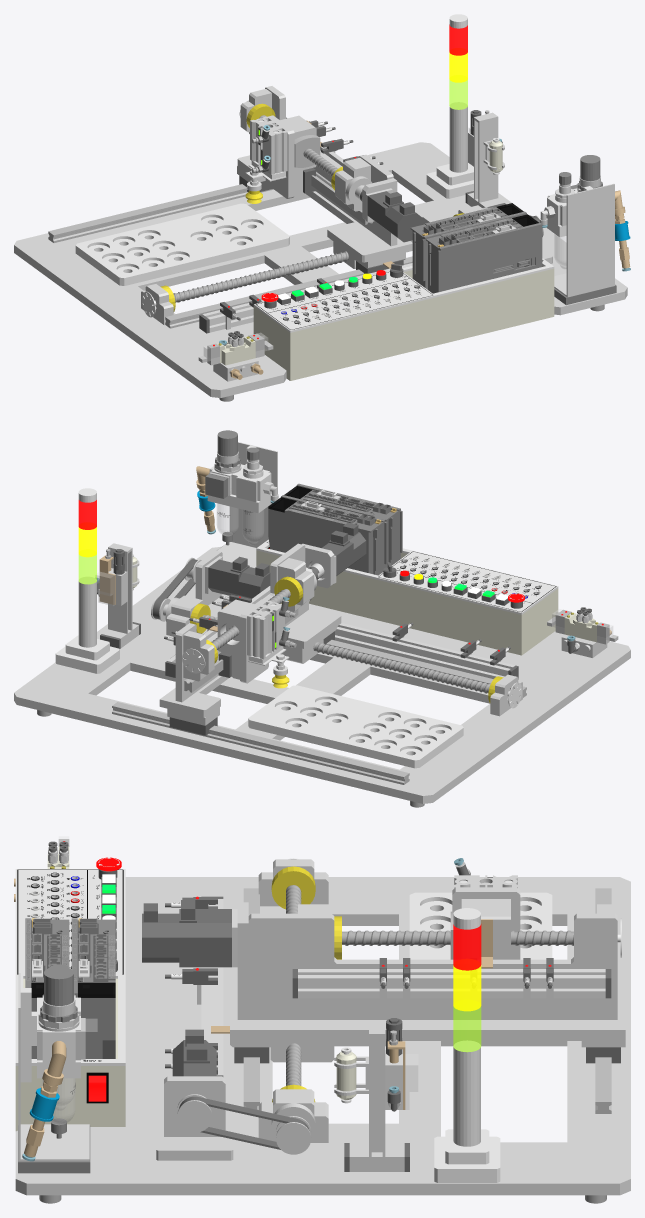
The model's file is servo2-workshop.glb.
3 views of the same model, one above another, from view 1: azimuth 30°, elevation 25°; view 2: azimuth 150°, elevation 25°; view 3: azimuth 270°, elevation 25° (orthographic). The views are drawn at different scales.
Parts seen in each view (by area): view 1: Body__go2071__mesh0, Body__go2071__mesh7, Pallet__go1687__mesh0, Axis1_Body__go1544__mesh0, ServoModule-1__go783__mesh1, Clamp__go1660__mesh3, Body__go2071__mesh14, Body__go2071__mesh3, Axis2_Block__go1541__mesh0, Body__go2071__mesh6, Axis1_Body__go1544__mesh1, ServoModule-0__go48__mesh1 (+8 smaller); view 2: Body__go2071__mesh0, Body__go2071__mesh7, Pallet__go1687__mesh0, Axis1_Body__go1544__mesh0, Body__go2071__mesh6, Body__go2071__mesh3, ServoModule-0__go48__mesh1, Body__go2071__mesh14, Axis2_Block__go1541__mesh0, Body__go2071__mesh4, Clamp__go1660__mesh3, ServoModule-1__go783__mesh1 (+17 smaller); view 3: Body__go2071__mesh0, Axis1_Body__go1544__mesh0, Axis1_Body__go1544__mesh2, Body__go2071__mesh14, Axis1_Body__go1544__mesh1, Body__go2071__mesh6, Body__go2071__mesh7, ServoModule-0__go48__mesh1, Pallet__go1687__mesh0, Body__go2071__mesh1, Axis2_Block__go1541__mesh0, Body__go2071__mesh4 (+25 smaller).
Part boxes in pixels (x1,y1,x2,y2): Body__go2071__mesh0: (14, 112, 627, 397); Body__go2071__mesh7: (217, 141, 554, 380); Pallet__go1687__mesh0: (75, 203, 289, 285); Axis1_Body__go1544__mesh0: (237, 86, 412, 268); ServoModule-1__go783__mesh1: (426, 218, 542, 293); Clamp__go1660__mesh3: (544, 183, 614, 297); Body__go2071__mesh14: (253, 258, 554, 332); Body__go2071__mesh3: (48, 110, 489, 358); Axis2_Block__go1541__mesh0: (250, 115, 316, 198); Body__go2071__mesh6: (202, 102, 473, 346); Axis1_Body__go1544__mesh1: (239, 117, 422, 273); ServoModule-0__go48__mesh1: (410, 207, 526, 289); Body__go2071__mesh0: (14, 543, 630, 803); Body__go2071__mesh7: (132, 546, 599, 655); Pallet__go1687__mesh0: (248, 685, 463, 768); Axis1_Body__go1544__mesh0: (159, 543, 341, 725); Body__go2071__mesh6: (78, 556, 592, 678); Body__go2071__mesh3: (98, 549, 609, 784); ServoModule-0__go48__mesh1: (268, 495, 387, 575); Body__go2071__mesh14: (256, 539, 558, 614); Axis2_Block__go1541__mesh0: (217, 599, 284, 683); Body__go2071__mesh4: (97, 549, 591, 679); Clamp__go1660__mesh3: (217, 442, 277, 567); ServoModule-1__go783__mesh1: (296, 483, 402, 567); Body__go2071__mesh0: (15, 859, 630, 1195); Axis1_Body__go1544__mesh0: (230, 902, 625, 1062); Axis1_Body__go1544__mesh2: (232, 909, 605, 998); Body__go2071__mesh14: (15, 869, 125, 1065); Axis1_Body__go1544__mesh1: (142, 900, 620, 1063); Body__go2071__mesh6: (48, 850, 480, 1146); Body__go2071__mesh7: (15, 846, 356, 1131); ServoModule-0__go48__mesh1: (71, 918, 115, 1058); Pallet__go1687__mesh0: (409, 892, 552, 959); Body__go2071__mesh1: (341, 908, 500, 1182); Axis2_Block__go1541__mesh0: (452, 875, 520, 959); Body__go2071__mesh4: (48, 841, 409, 1171).
Bounding box in the file's own units: 0.6705 × 0.286 × 0.5615.
59 materials, 22 textured.
